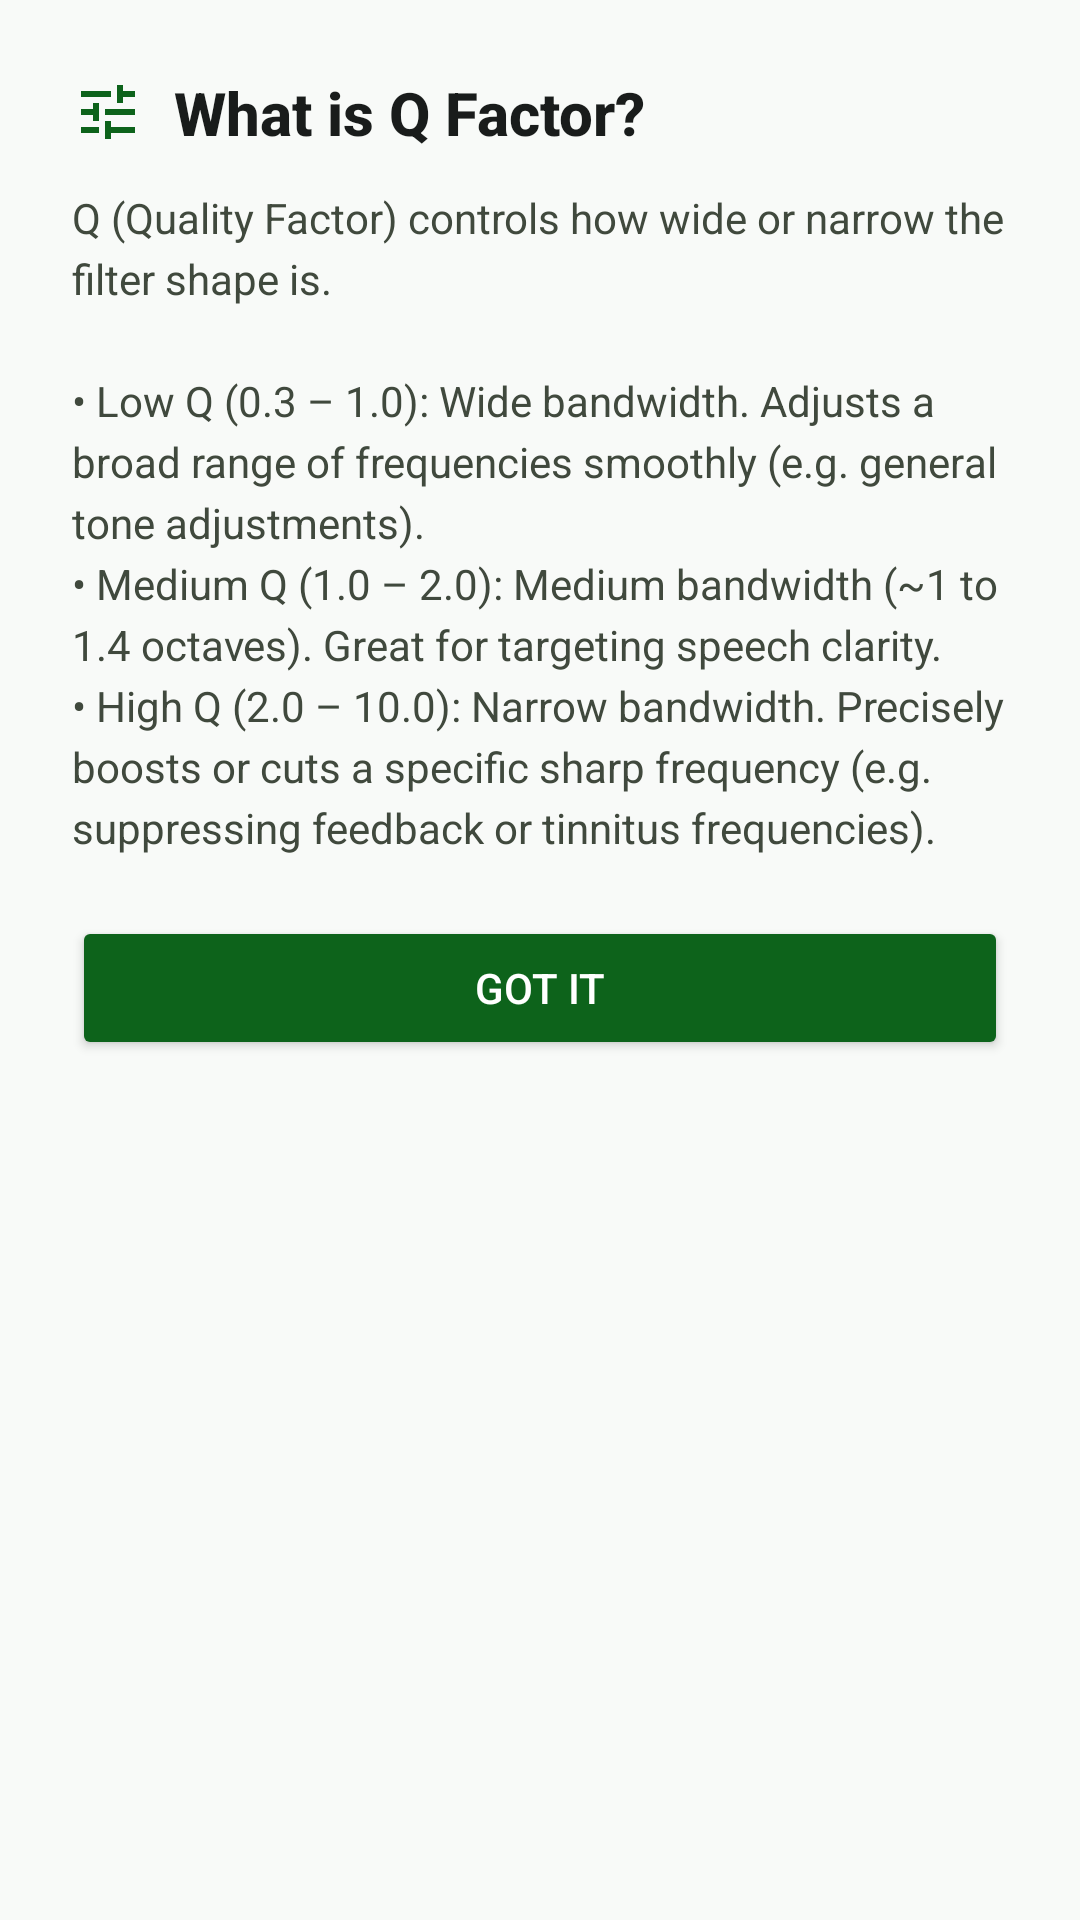

Named icons in this screenshot (1080x1920) and their bounding boxes, (left=x1, top=y1, right=x2, bottom=y2):
tune: (left=81, top=85, right=135, bottom=139)
